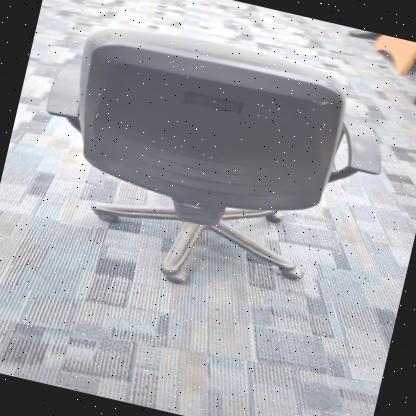chair: (6, 0, 401, 326)
